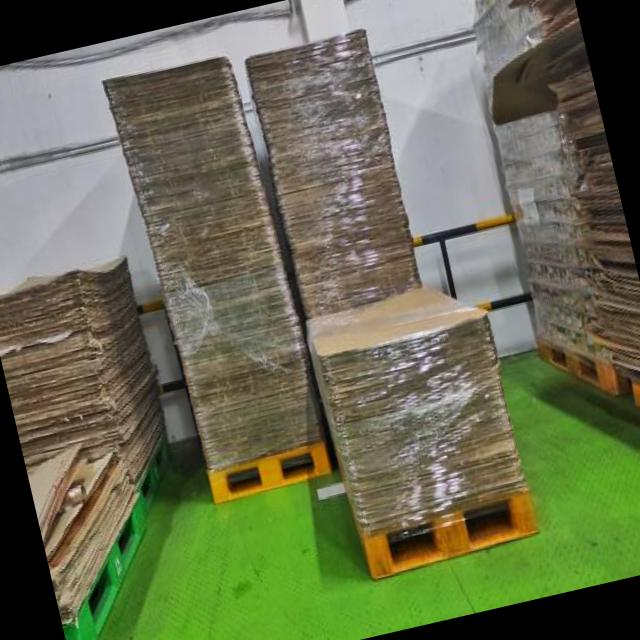Wooden-Pallets: (352, 483, 556, 601), (201, 434, 340, 522), (528, 327, 635, 426)
